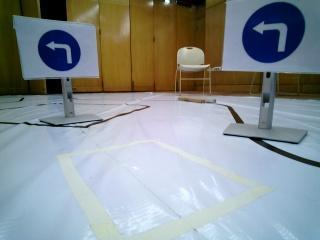left: (231, 1, 320, 66), (19, 22, 94, 76)
